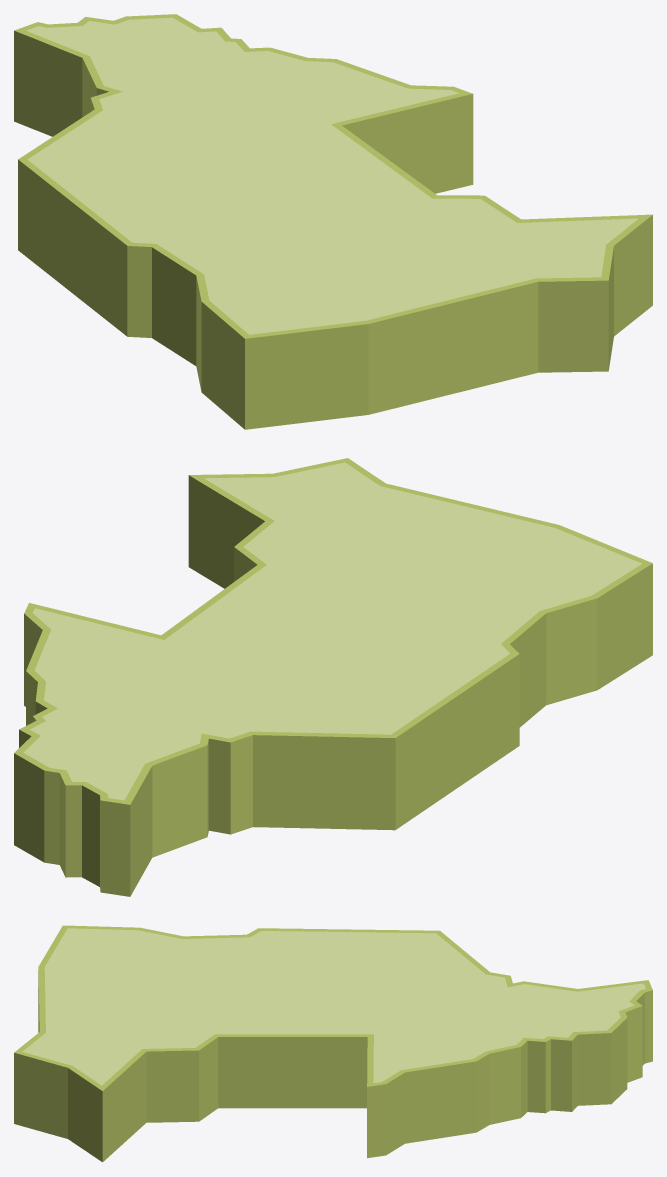
The model's file is Islands2.004.fbx.
3 views of the same model, one above another, from view 1: azimuth 30°, elevation 25°; view 2: azimuth 150°, elevation 25°; view 3: azimuth 270°, elevation 25° (orthographic). The views are drawn at different scales.
Visible parts, largest first — view 1: Island2.004; view 2: Island2.004; view 3: Island2.004.
Boxes of the visible parts, x1,y1,x2,y2 form: Island2.004: (14,14,652,429); Island2.004: (14,458,652,896); Island2.004: (14,925,652,1162).
Size of the model in its own units: 125 by 25 by 203.
